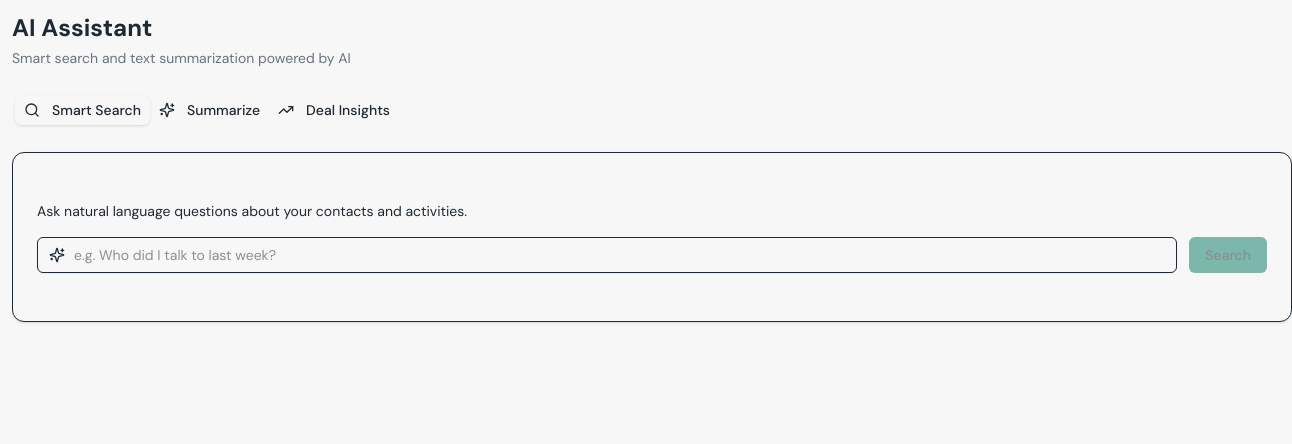
Test: AiPanelPage › runs the search and renders the streamed text
The image size is (1292, 444).
In the field with placeholder "e.g. Who did I talk to last week?": (607, 255) [37,237,1177,273], type "find vips"
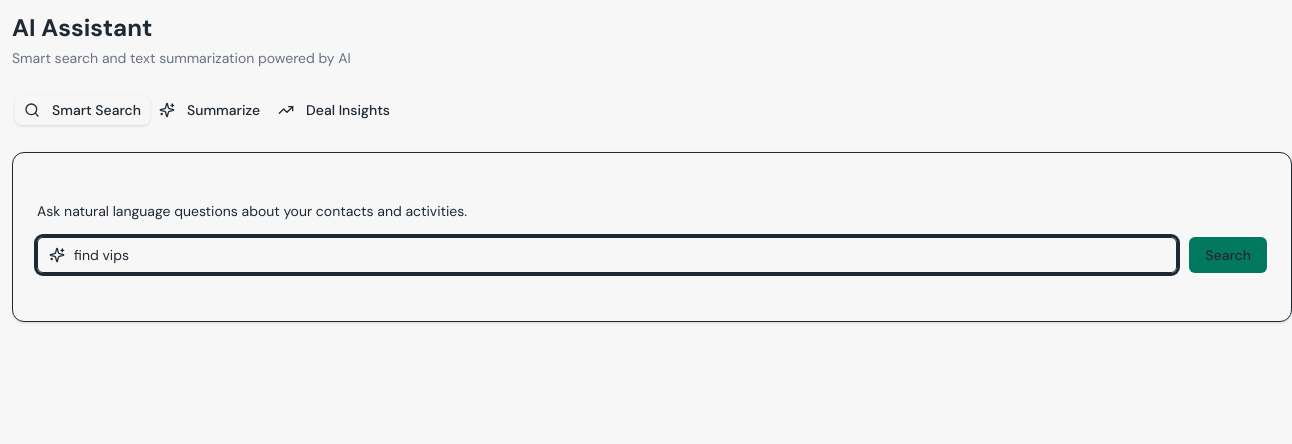
Click the button "Search": (1228, 255) [1189,237,1267,273]
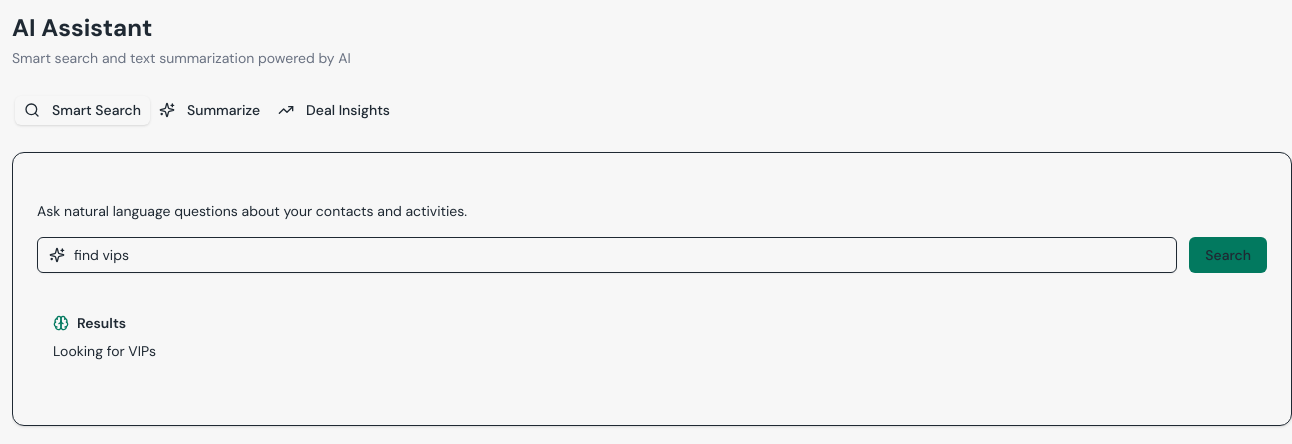
Expected: the text "Looking for VIPs" is shown, [53,342,156,360]
